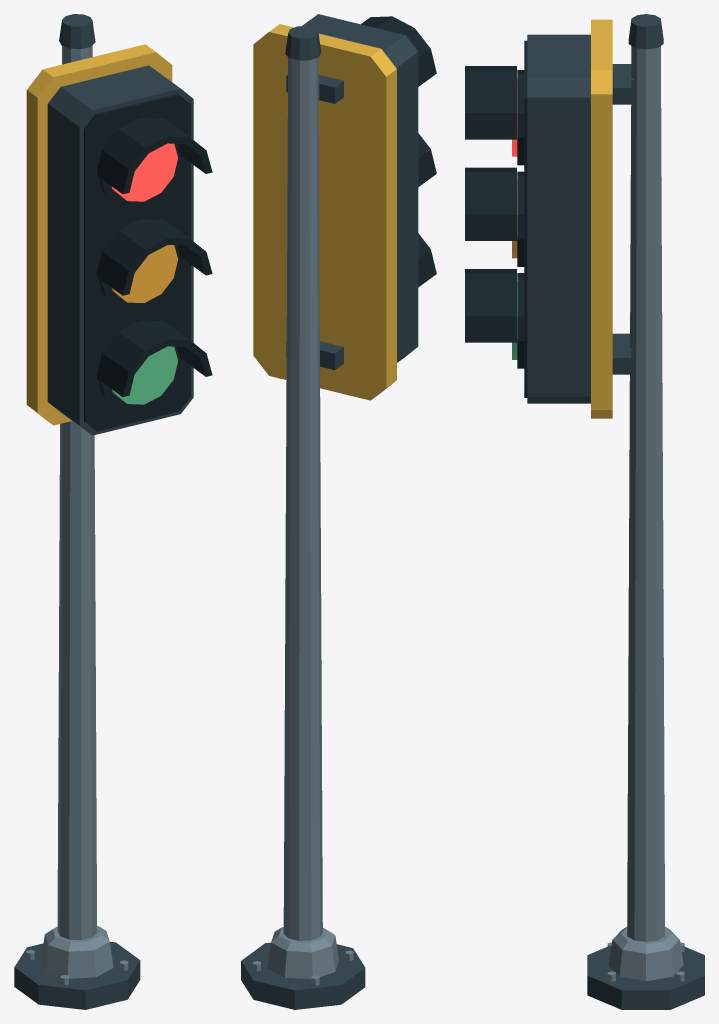
The model's file is traffic_light_pole.glb.
3 views of the same model, side by side, from view 1: azimuth 30°, elevation 25°; view 2: azimuth 150°, elevation 25°; view 3: azimuth 270°, elevation 25° (orthographic).
Visible parts, largest first — view 1: traffic_light_pole; view 2: traffic_light_pole; view 3: traffic_light_pole.
Boxes of the visible parts, x1,y1,x2,y2 form: traffic_light_pole: (14, 14, 212, 1009); traffic_light_pole: (241, 14, 436, 1009); traffic_light_pole: (465, 14, 704, 1009).
Size of the model in its own units: 0.465 by 3.18 by 0.7165.
